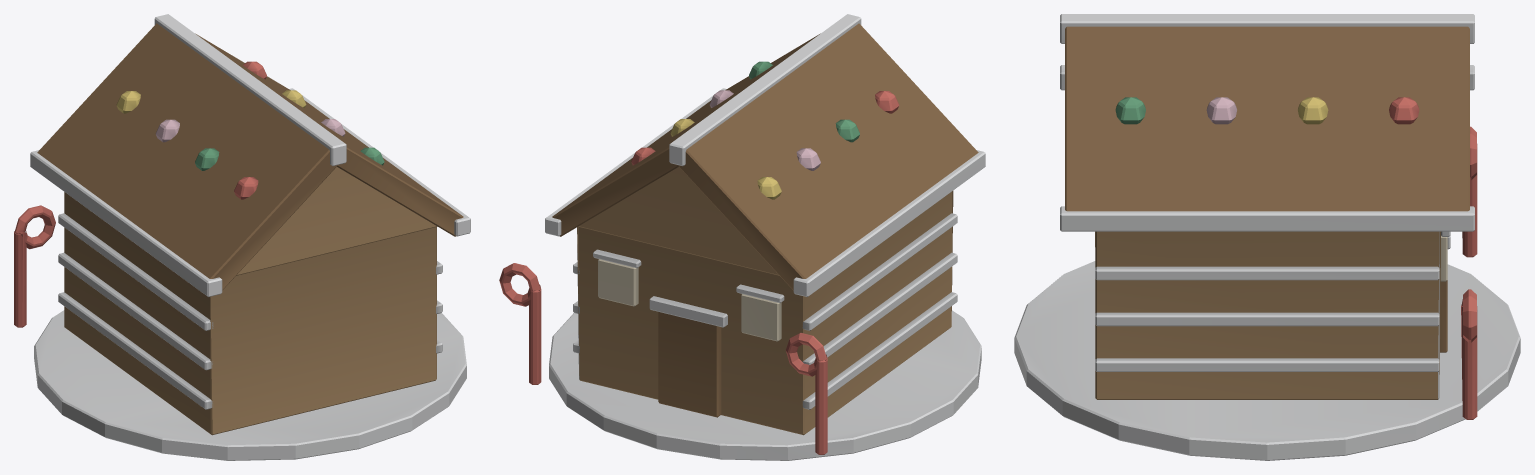
Rendered from xmas_gingerbread_house.glb.
The picture shows the model from 3 angles, left to right: view 1: azimuth 30°, elevation 25°; view 2: azimuth 150°, elevation 25°; view 3: azimuth 270°, elevation 25°; orthographic projection. The views are drawn at different scales.
Size of the model in its own units: 0.5 by 0.3675 by 0.5.
